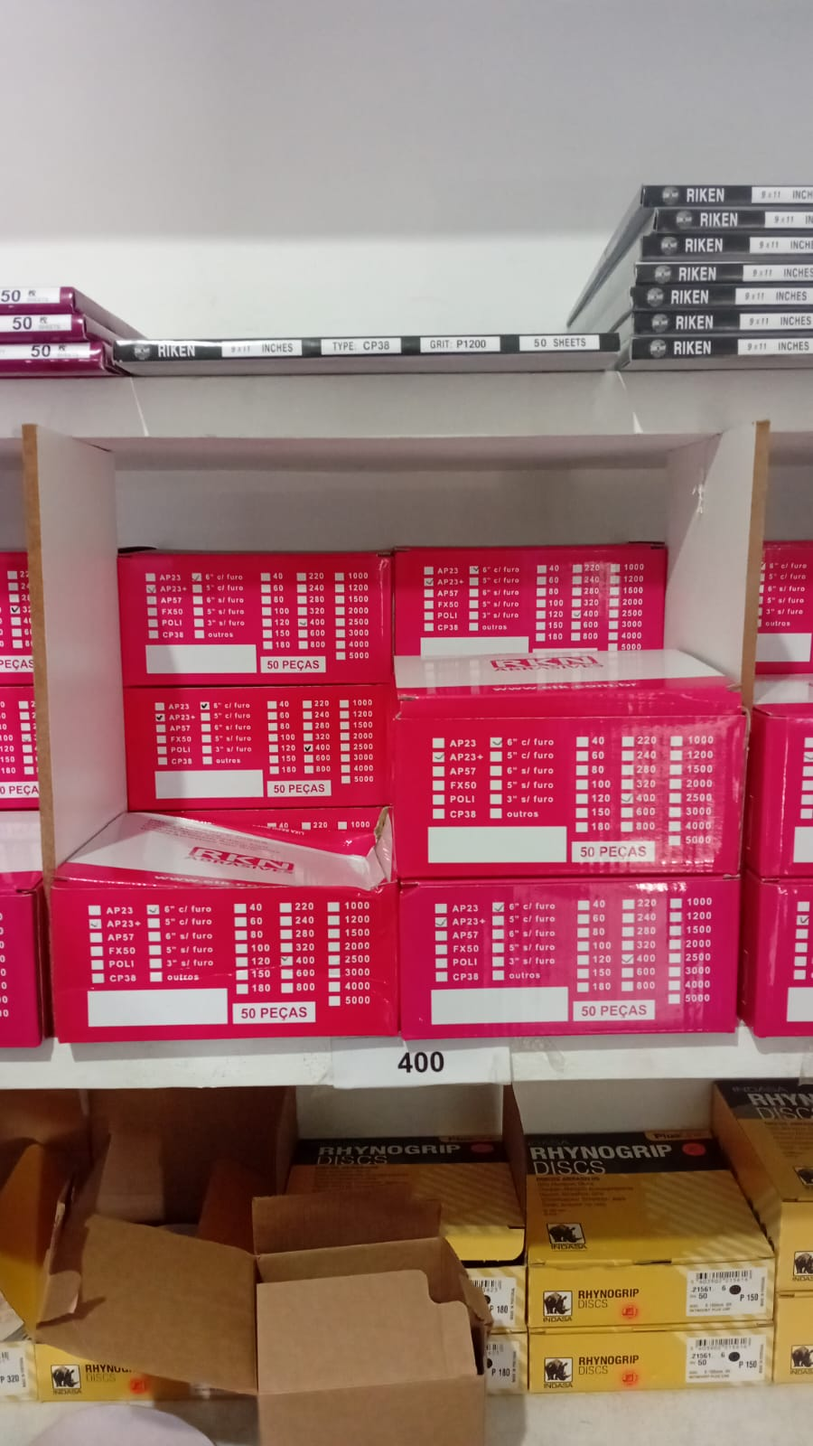grao: (415, 326, 503, 361)
objects: (31, 407, 752, 1080)
